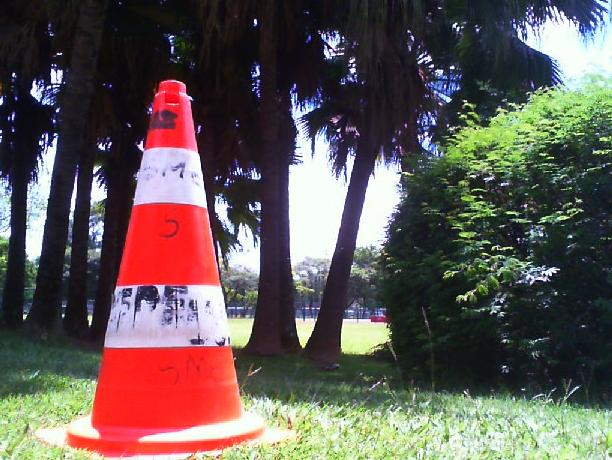0 cone: (35, 80, 297, 460)
